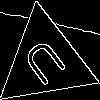U: (20, 36, 74, 96)
